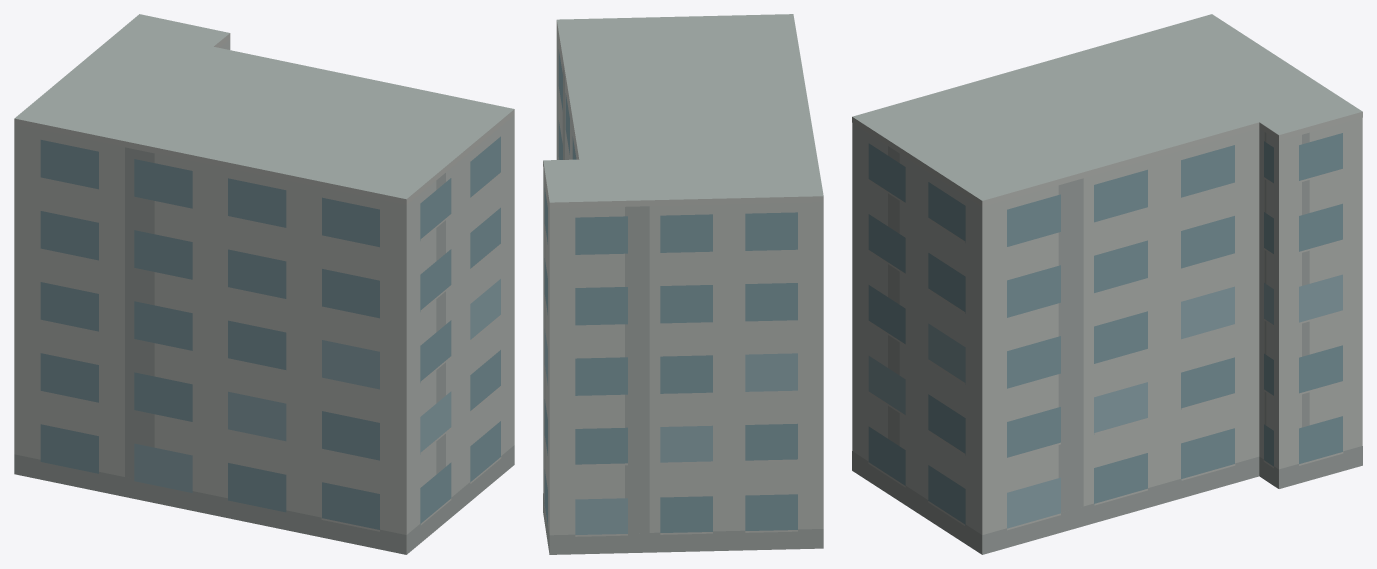
Rendered from survey-upis-32885086.glb.
3 views of the same model, side by side, from view 1: azimuth 30°, elevation 25°; view 2: azimuth 150°, elevation 25°; view 3: azimuth 270°, elevation 25° (orthographic).
Parts seen in each view (by area): view 1: survey-upis-32885086.tmp; view 2: survey-upis-32885086.tmp; view 3: survey-upis-32885086.tmp.
Part boxes in pixels (left/top/right/bottom): survey-upis-32885086.tmp: left=14, top=14, right=514, bottom=554; survey-upis-32885086.tmp: left=543, top=14, right=823, bottom=554; survey-upis-32885086.tmp: left=852, top=14, right=1362, bottom=554.
Bounding box in the file's own units: 16.21 × 14.3 × 18.71.
